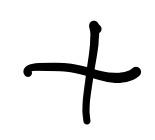plus: (23, 21, 141, 125)
